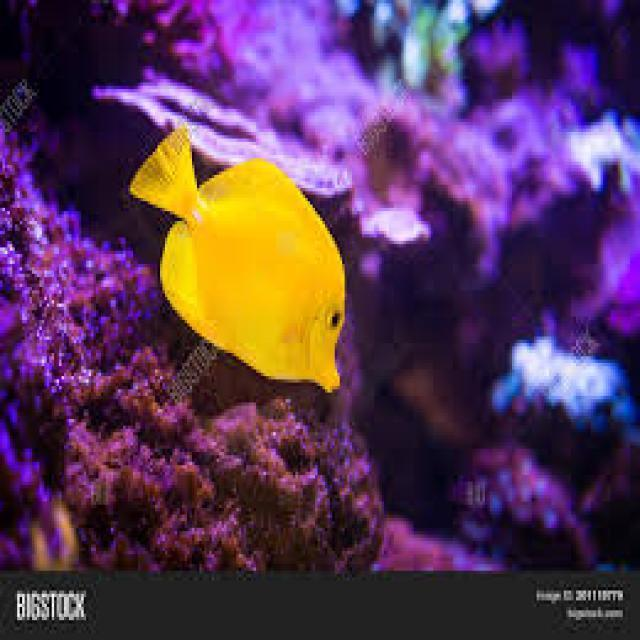TangFish: (123, 122, 351, 398)
